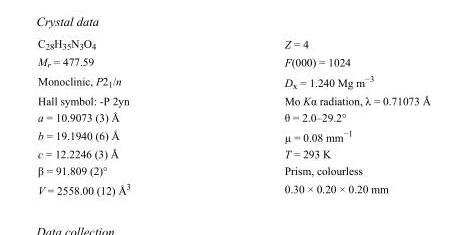table: (37, 36, 429, 196)
table column: (206, 36, 429, 196), (37, 36, 206, 196)
table row: (37, 70, 429, 92), (37, 125, 429, 145), (37, 52, 429, 70), (37, 178, 429, 196), (37, 108, 429, 125), (37, 161, 429, 178), (37, 36, 429, 52), (37, 92, 429, 108), (37, 145, 429, 161)
